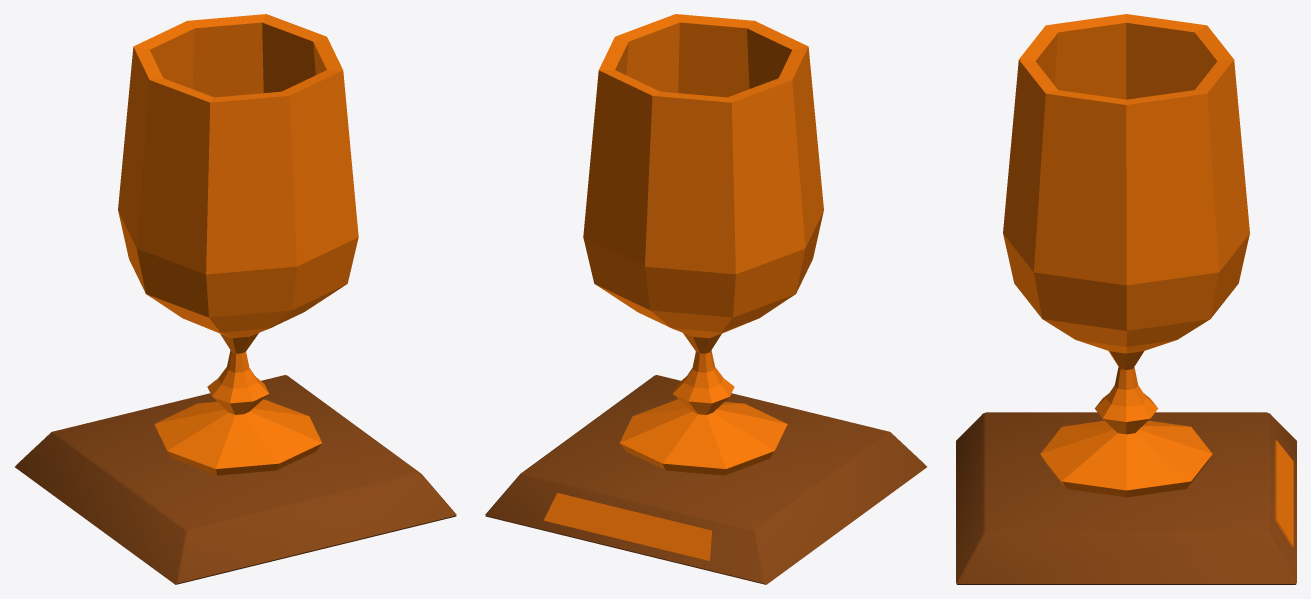
Rendered from trophy_001.FBX.
3 views of the same model, side by side, from view 1: azimuth 30°, elevation 25°; view 2: azimuth 150°, elevation 25°; view 3: azimuth 270°, elevation 25° (orthographic). The views are drawn at different scales.
Visible parts, largest first — view 1: trophy_001, Box001; view 2: trophy_001, Box001, plaque; view 3: trophy_001, Box001, plaque.
Part boxes in pixels (box(x1,y1,x2,y2)): trophy_001: box(118, 14, 358, 475); Box001: box(15, 375, 456, 584); trophy_001: box(583, 14, 823, 475); Box001: box(485, 375, 926, 584); plaque: box(543, 493, 712, 560); trophy_001: box(1003, 14, 1249, 497); Box001: box(956, 412, 1296, 584); plaque: box(1275, 440, 1293, 546).
Size of the model in its own units: 0.1747 by 0.2565 by 0.1741.
